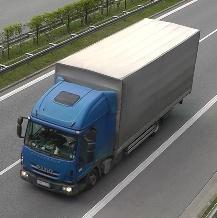Truck: (18, 17, 201, 197)
